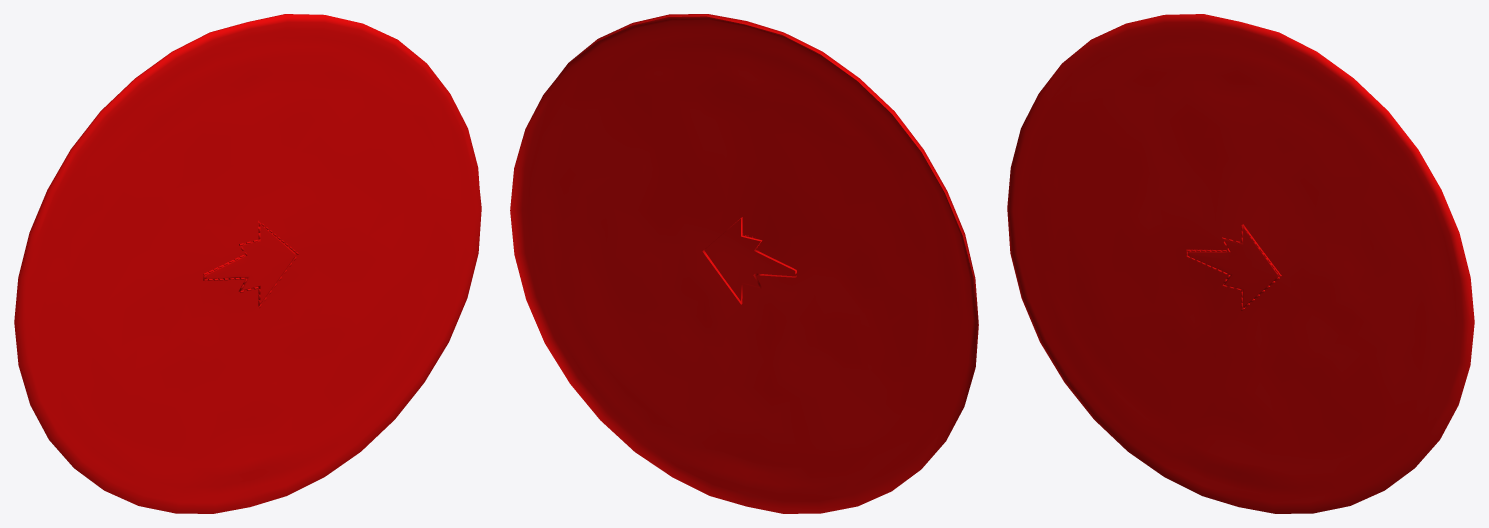
The model's file is dash_low.fbx.
The picture shows the model from 3 angles, left to right: view 1: azimuth 30°, elevation 25°; view 2: azimuth 150°, elevation 25°; view 3: azimuth 330°, elevation 25°; orthographic projection.
Parts seen in each view (by area): view 1: toppa_low, dash_low, filo_low; view 2: toppa_low, dash_low; view 3: toppa_low, dash_low, filo_low.
Boxes of the visible parts, x1,y1,x2,y2 form: toppa_low: (14, 14, 481, 513); dash_low: (204, 221, 296, 306); filo_low: (203, 222, 298, 307); toppa_low: (510, 14, 978, 513); dash_low: (702, 217, 796, 304); toppa_low: (1007, 14, 1474, 513); dash_low: (1188, 224, 1279, 307); filo_low: (1186, 225, 1281, 310).
Size of the model in its own units: 213 by 210 by 4.88.
